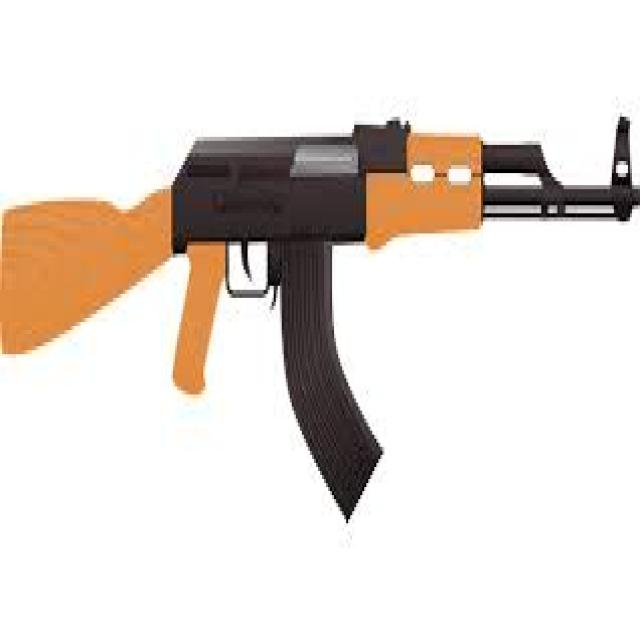rifle: (1, 98, 640, 525)
